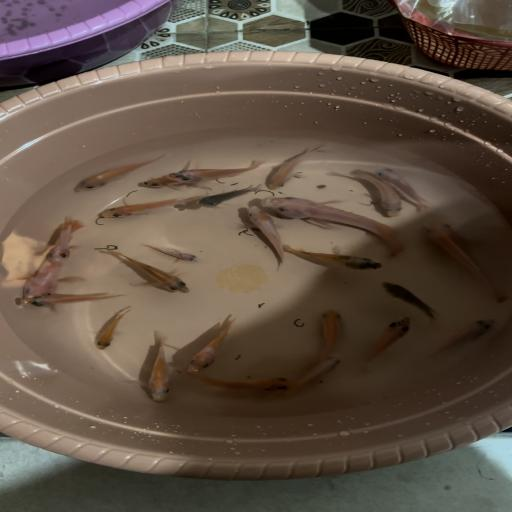nila: (261, 194, 414, 256), (422, 217, 506, 303), (97, 247, 193, 295), (70, 147, 168, 193), (333, 168, 403, 220), (276, 243, 389, 274), (182, 318, 240, 375), (422, 318, 495, 361), (172, 155, 264, 189), (263, 144, 328, 192), (242, 204, 288, 270), (358, 315, 414, 369), (98, 194, 198, 222), (378, 281, 442, 323), (196, 371, 297, 397), (376, 165, 434, 210), (141, 331, 176, 402), (303, 308, 349, 361), (18, 290, 128, 312), (40, 214, 88, 263), (292, 354, 347, 394), (88, 308, 140, 350), (14, 263, 74, 299), (191, 183, 264, 211), (141, 242, 204, 264), (139, 176, 179, 199)
